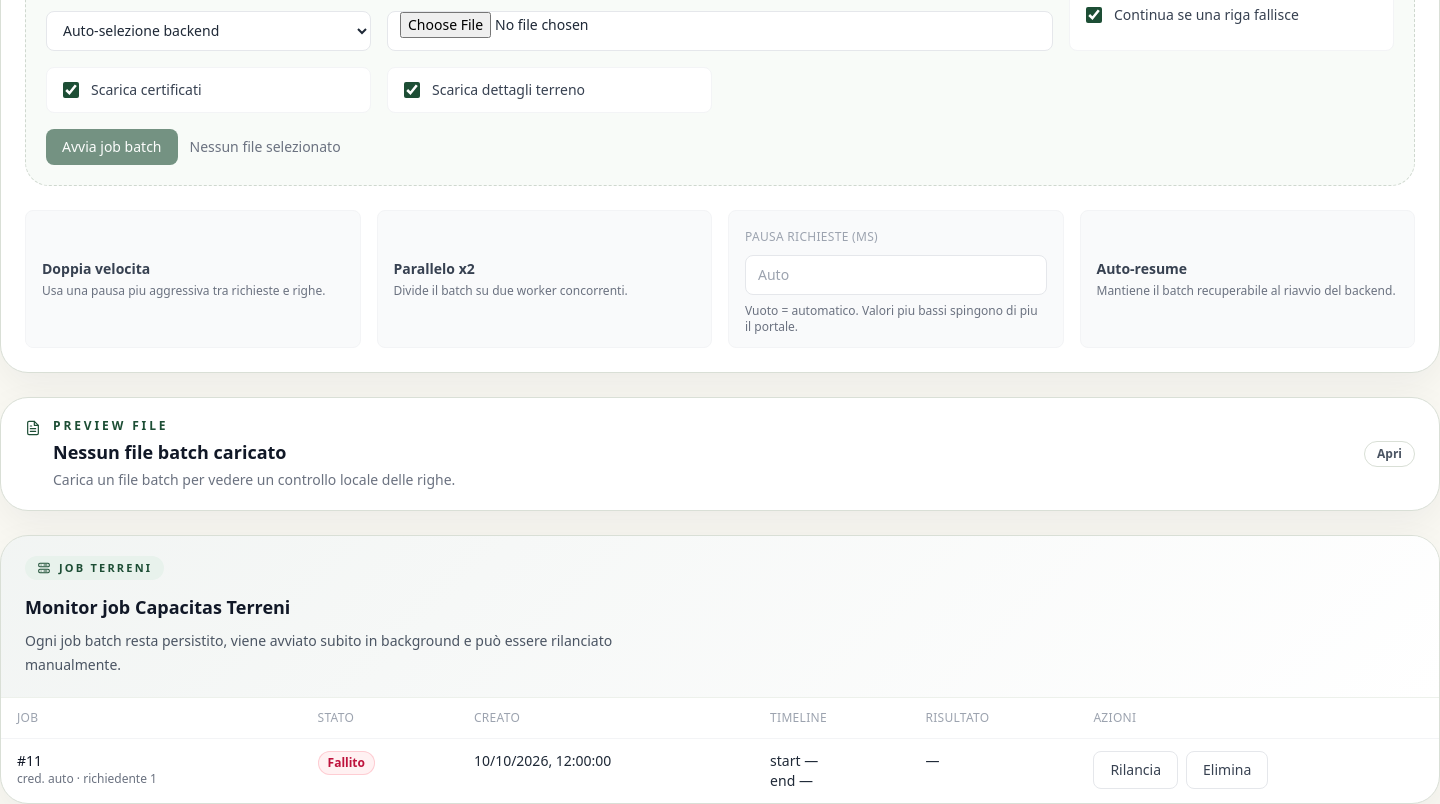
Test: R21 public terreni action presentation › rerun reads the retained API job ID at click time, not render time
(page scrolled)
Click the button "Rilancia": click(1136, 770) [1093, 751, 1178, 789]
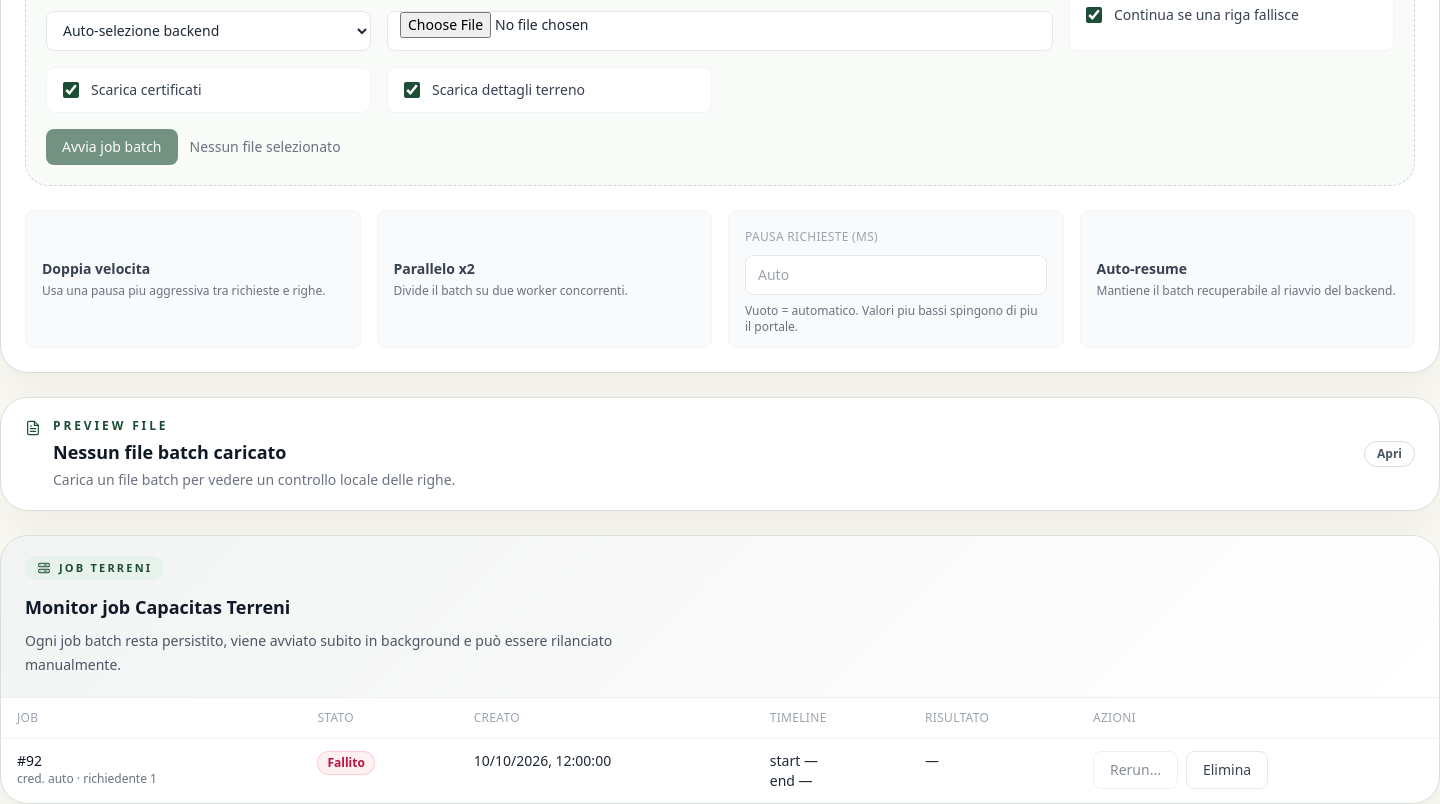
Expected: the button "Rerun..." is disabled, [1093, 751, 1178, 789]
